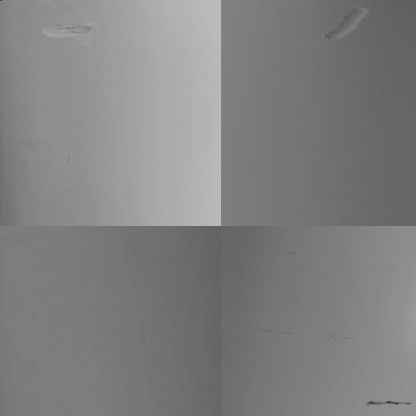sunshang: (324, 7, 369, 48), (41, 19, 91, 38)
